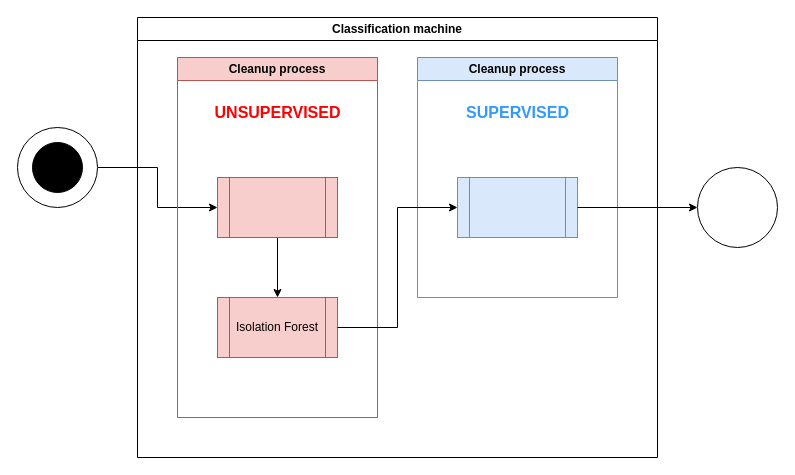
Image size: 795x475. Some labels were removed from this diagram. The shapes that lost their labels are listed below. From the top down, each one's box as (x1, y1, x2, y2) in pixels, then its label:
(216, 176, 338, 238): K-Mean clustering
(456, 176, 578, 238): Lasso Regression
